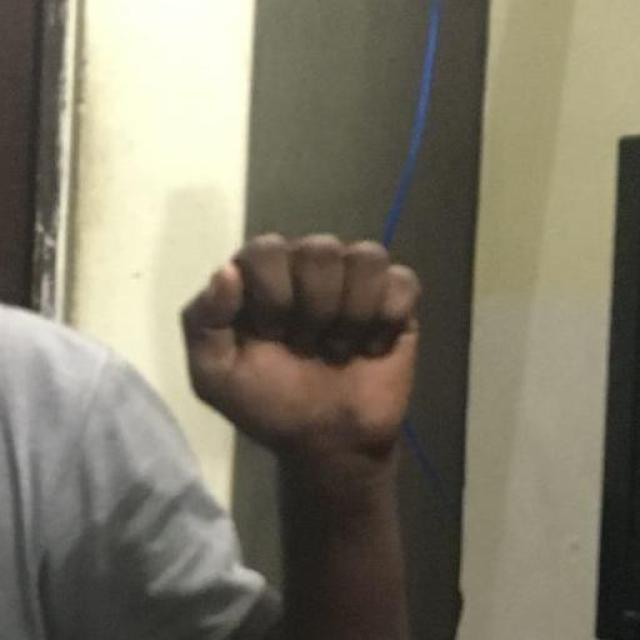hand: (180, 229, 424, 470)
